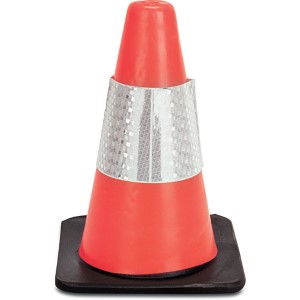traffic cone: (55, 1, 246, 294)
